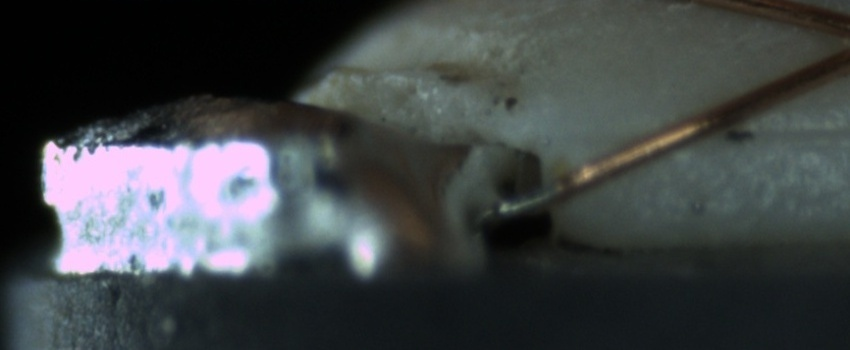DL: (689, 100, 847, 161)
TS: (495, 179, 562, 215)
